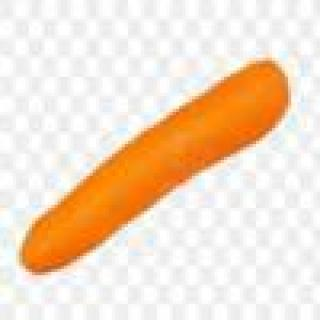Wortel: (11, 52, 296, 283)
